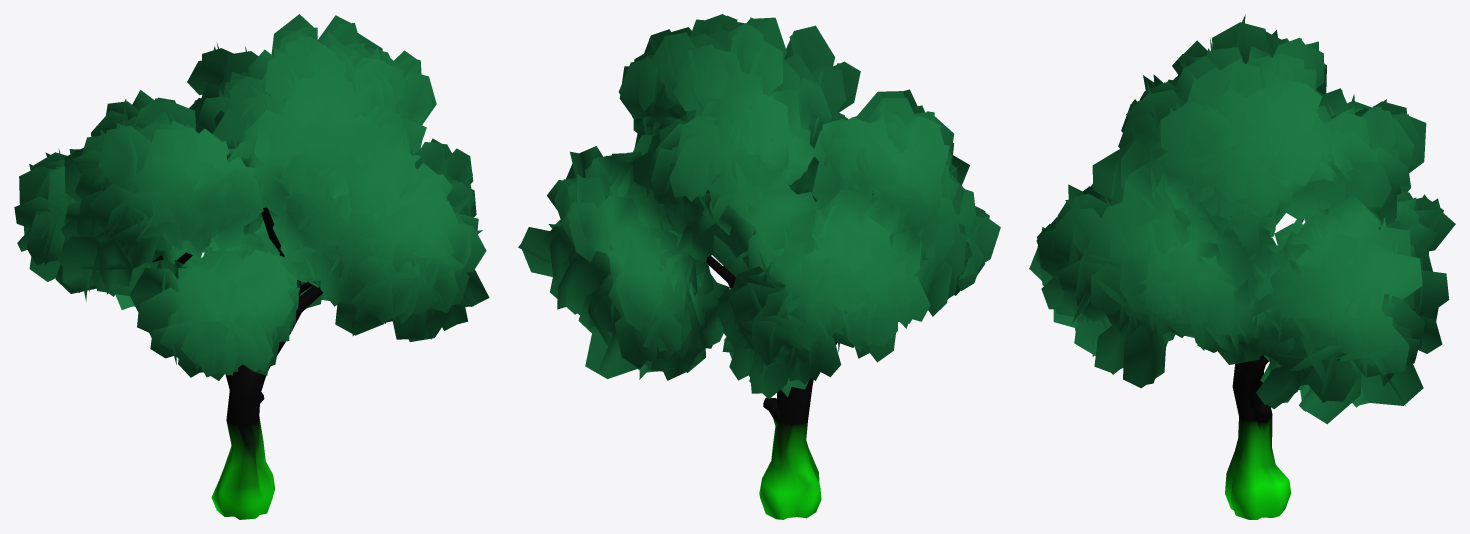
The model's file is SM_OakTreeLarge1.fbx.
3 renders of one model, left to right at view 1: azimuth 30°, elevation 25°; view 2: azimuth 150°, elevation 25°; view 3: azimuth 270°, elevation 25°, orthographic. The views are drawn at different scales.
Parts seen in each view (by area): view 1: SM_OakTreeLarge1_LOD0; view 2: SM_OakTreeLarge1_LOD0; view 3: SM_OakTreeLarge1_LOD0.
Boxes of the visible parts, bbox=[...] form: SM_OakTreeLarge1_LOD0: bbox=[14, 14, 489, 519]; SM_OakTreeLarge1_LOD0: bbox=[518, 14, 1000, 519]; SM_OakTreeLarge1_LOD0: bbox=[1029, 14, 1455, 519].
Bounding box in the file's own units: 2939 × 3297 × 2687.
